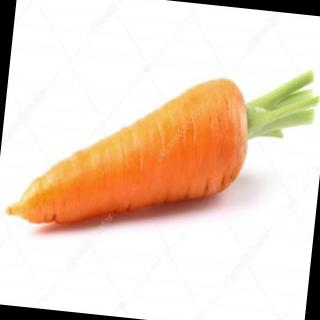Wortel: (21, 59, 256, 247)
